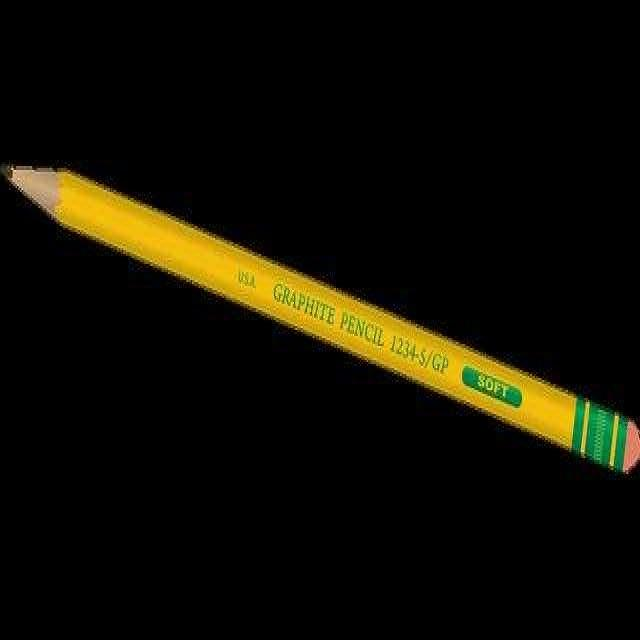pencil: (0, 139, 639, 497)
